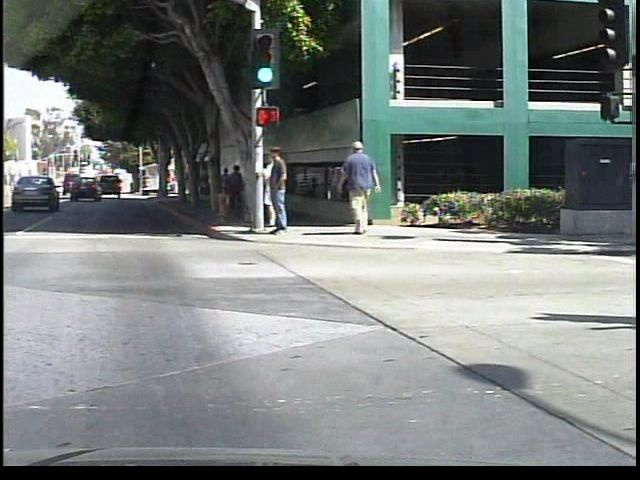person: (338, 139, 386, 237), (257, 141, 296, 243), (257, 146, 286, 229), (229, 163, 250, 215)
